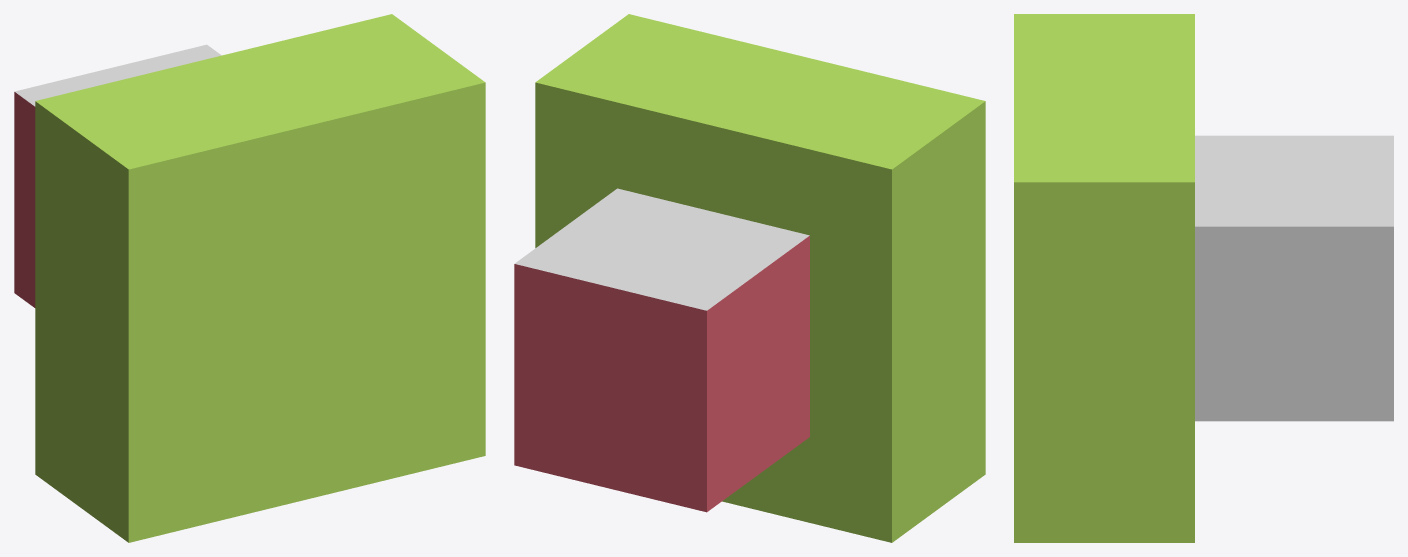
3 views of the same model, side by side, from view 1: azimuth 30°, elevation 25°; view 2: azimuth 150°, elevation 25°; view 3: azimuth 270°, elevation 25° (orthographic). The views are drawn at different scales.
Visible parts, largest first — view 1: Cube; view 2: Cube; view 3: Cube.
Boxes of the visible parts, x1,y1,x2,y2 form: Cube: (14, 14, 485, 542); Cube: (514, 14, 985, 542); Cube: (1014, 14, 1393, 542).
Size of the model in its own units: 2 by 2 by 1.91.
